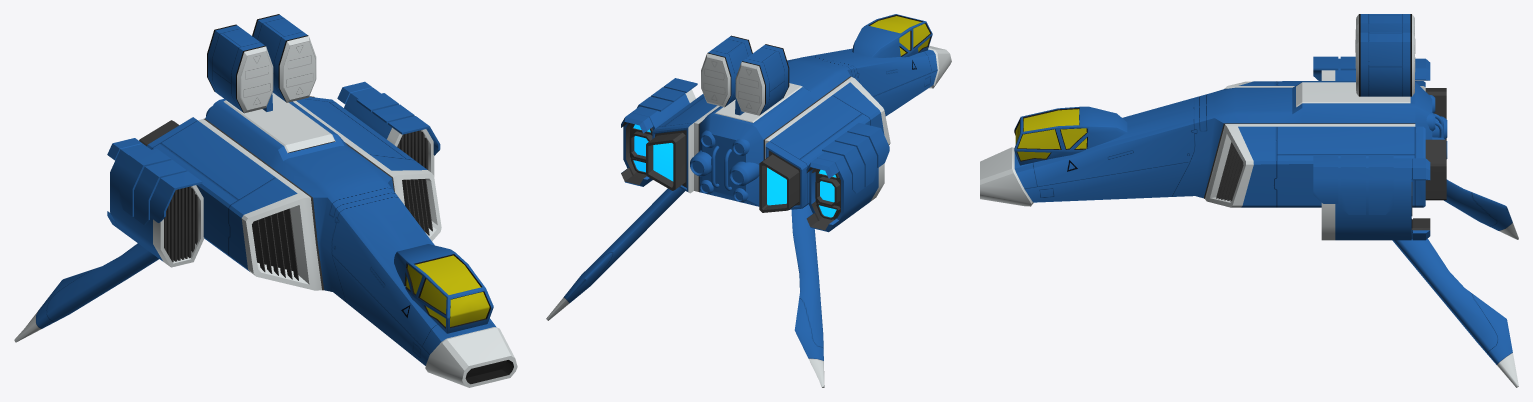
File: ship213.gltf
The picture shows the model from 3 angles, left to right: view 1: azimuth 30°, elevation 25°; view 2: azimuth 150°, elevation 25°; view 3: azimuth 270°, elevation 25°; orthographic projection. The views are drawn at different scales.
Parts seen in each view (by area): view 1: ShipPart_2, ShipPart_365, ShipPart_160, ShipPart_14, ShipPart_206, ShipPart_599; view 2: ShipPart_2, ShipPart_365, ShipPart_160, ShipPart_599, ShipPart_206, ShipPart_14, ShipPart_576; view 3: ShipPart_2, ShipPart_206, ShipPart_160, ShipPart_576, ShipPart_14, ShipPart_599, ShipPart_365.
Part boxes in pixels (box(x1,y1,x2,y2)): ShipPart_2: box(139, 92, 517, 387); ShipPart_365: box(107, 138, 204, 267); ShipPart_160: box(207, 14, 316, 113); ShipPart_14: box(394, 244, 493, 333); ShipPart_206: box(337, 81, 440, 176); ShipPart_599: box(14, 243, 158, 342); ShipPart_2: box(646, 46, 951, 212); ShipPart_365: box(806, 123, 889, 232); ShipPart_160: box(701, 35, 789, 115); ShipPart_599: box(791, 204, 824, 387); ShipPart_206: box(621, 78, 697, 186); ShipPart_14: box(852, 14, 932, 57); ShipPart_576: box(546, 187, 685, 320); ShipPart_2: box(980, 81, 1447, 207); ShipPart_206: box(1313, 155, 1430, 240); ShipPart_160: box(1355, 14, 1415, 96); ShipPart_576: box(1392, 238, 1518, 387); ShipPart_14: box(1014, 106, 1127, 165); ShipPart_599: box(1444, 179, 1518, 239); ShipPart_365: box(1313, 56, 1430, 80).
Size of the model in its own units: 12.05 by 10.75 by 18.37.
29 materials, 11 textured.
